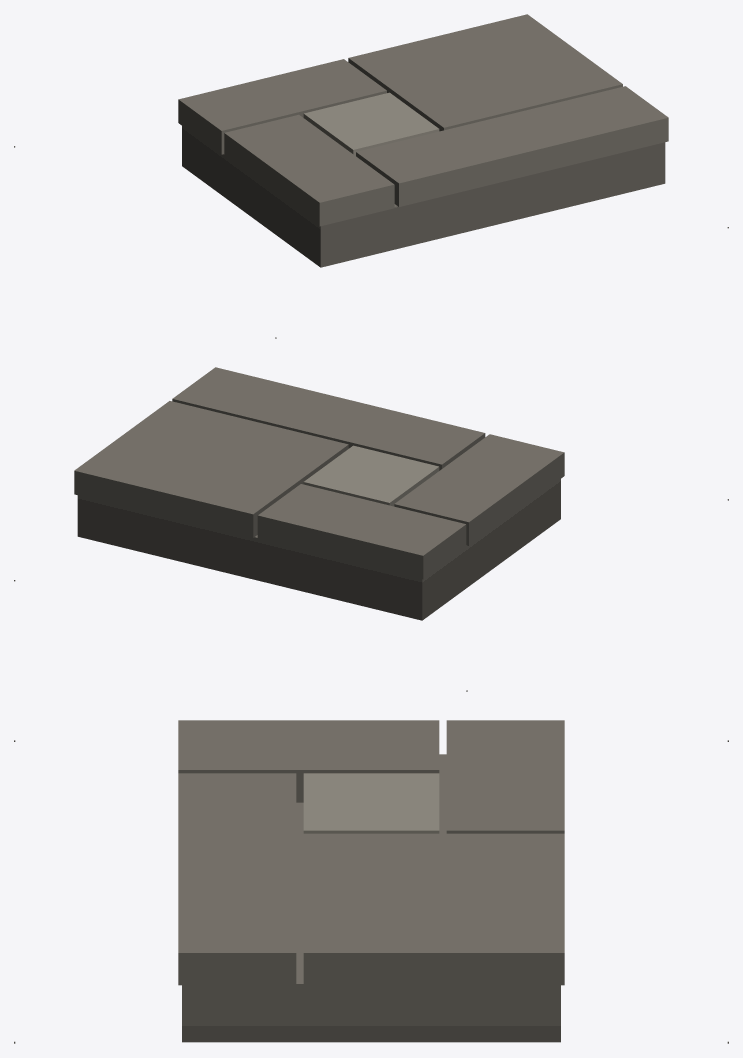
File: floor_stone_end.glb
The picture shows the model from 3 angles, top to bottom: view 1: azimuth 30°, elevation 25°; view 2: azimuth 150°, elevation 25°; view 3: azimuth 270°, elevation 25°; orthographic projection. The views are drawn at different scales.
Bounding box in the file's own units: 1 × 0.14 × 1.
Materials: 1 (1 with a texture image).
